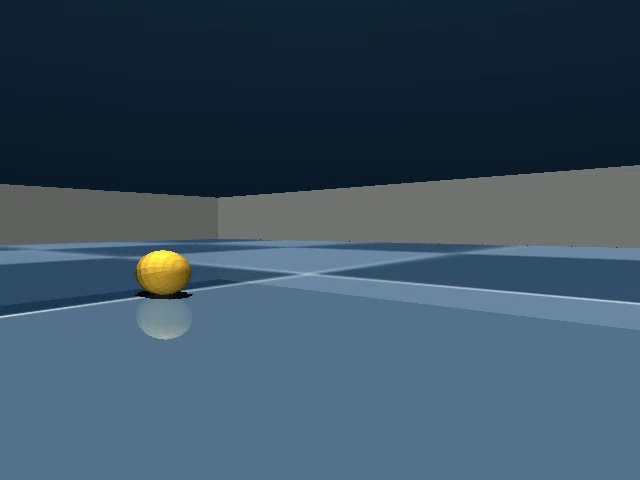lemon: (129, 243, 199, 305)
